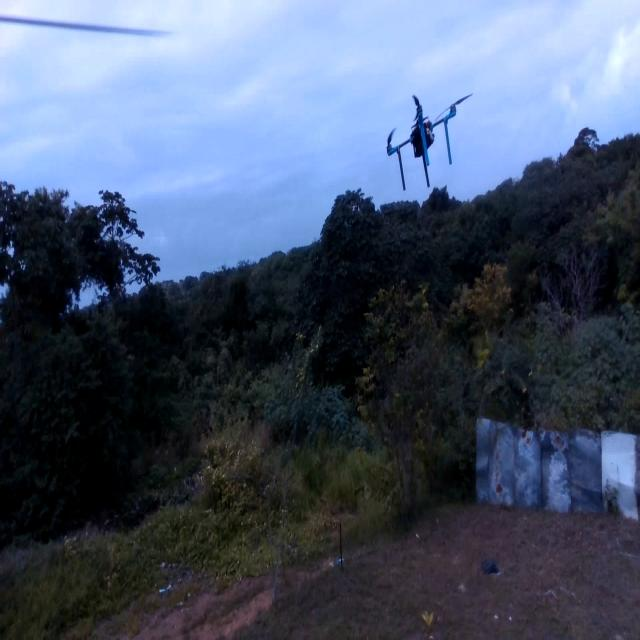-uav-: (375, 74, 478, 198)
